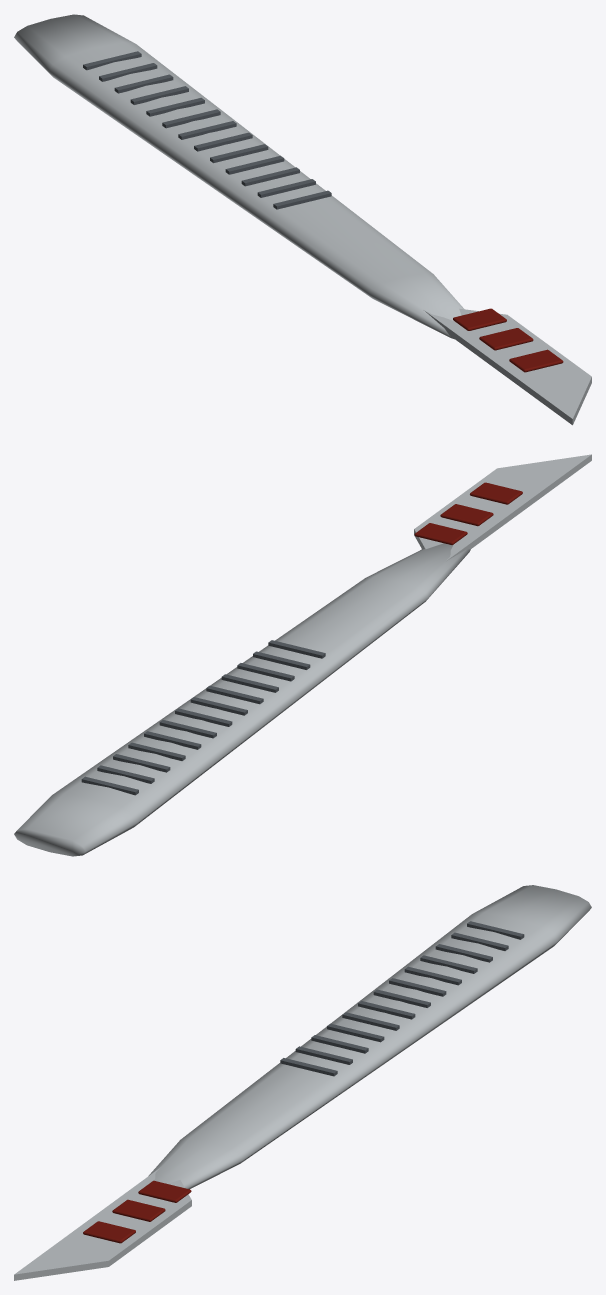
Rendered from scalpel.glb.
3 renders of one model, top to bottom at view 1: azimuth 30°, elevation 25°; view 2: azimuth 150°, elevation 25°; view 3: azimuth 330°, elevation 25°, orthographic.
Visible parts, largest first — view 1: scalpel; view 2: scalpel; view 3: scalpel.
Boxes of the visible parts, x1,y1,x2,y2 form: scalpel: [14, 14, 591, 425]; scalpel: [14, 454, 591, 856]; scalpel: [14, 885, 591, 1280].
Bounding box in the file's own units: 0.03 × 0.0085 × 0.305.
